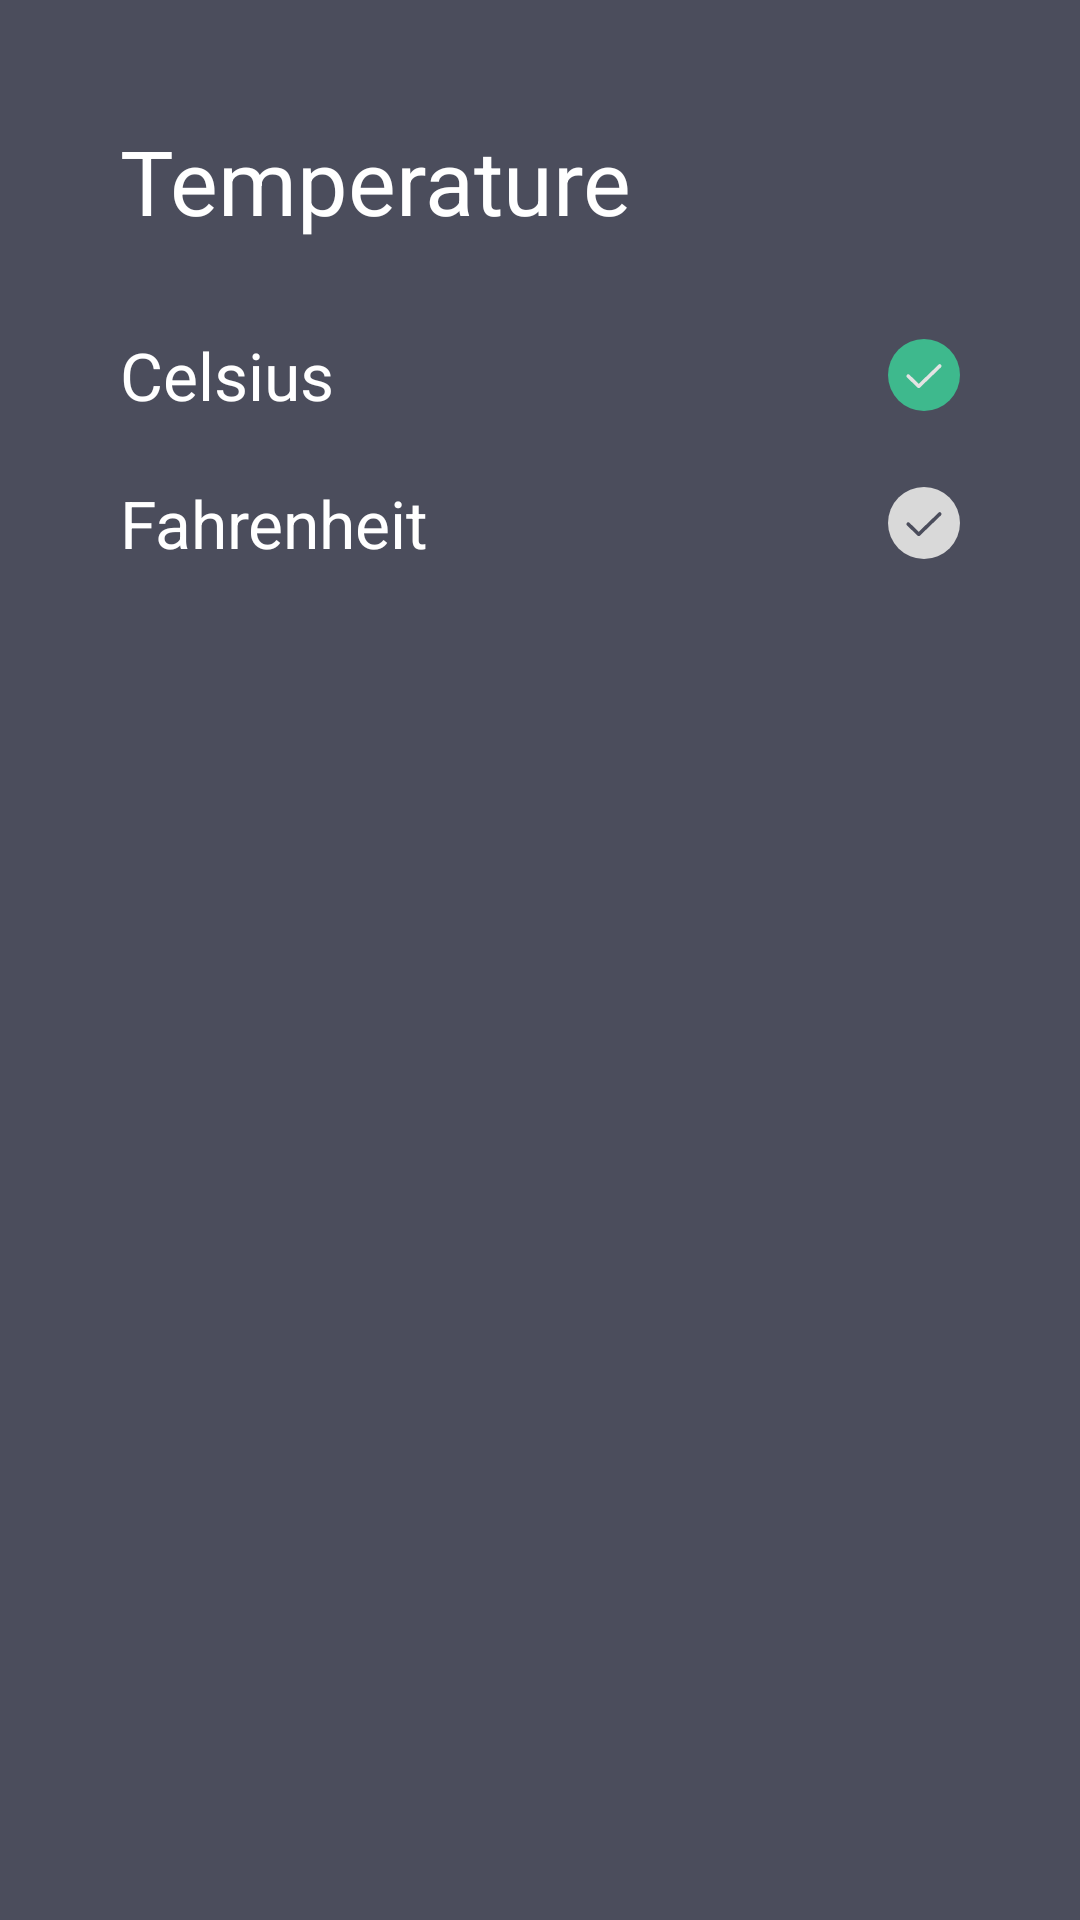

Where to tap for icons on this 1080*1920 app screen, as (x=x, y=y):
checkbox: (x=924, y=375), (x=924, y=523)
